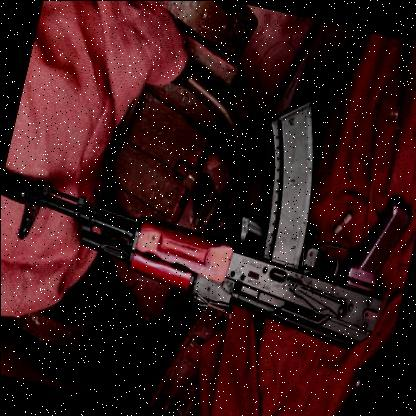rifle: (0, 54, 416, 376)
